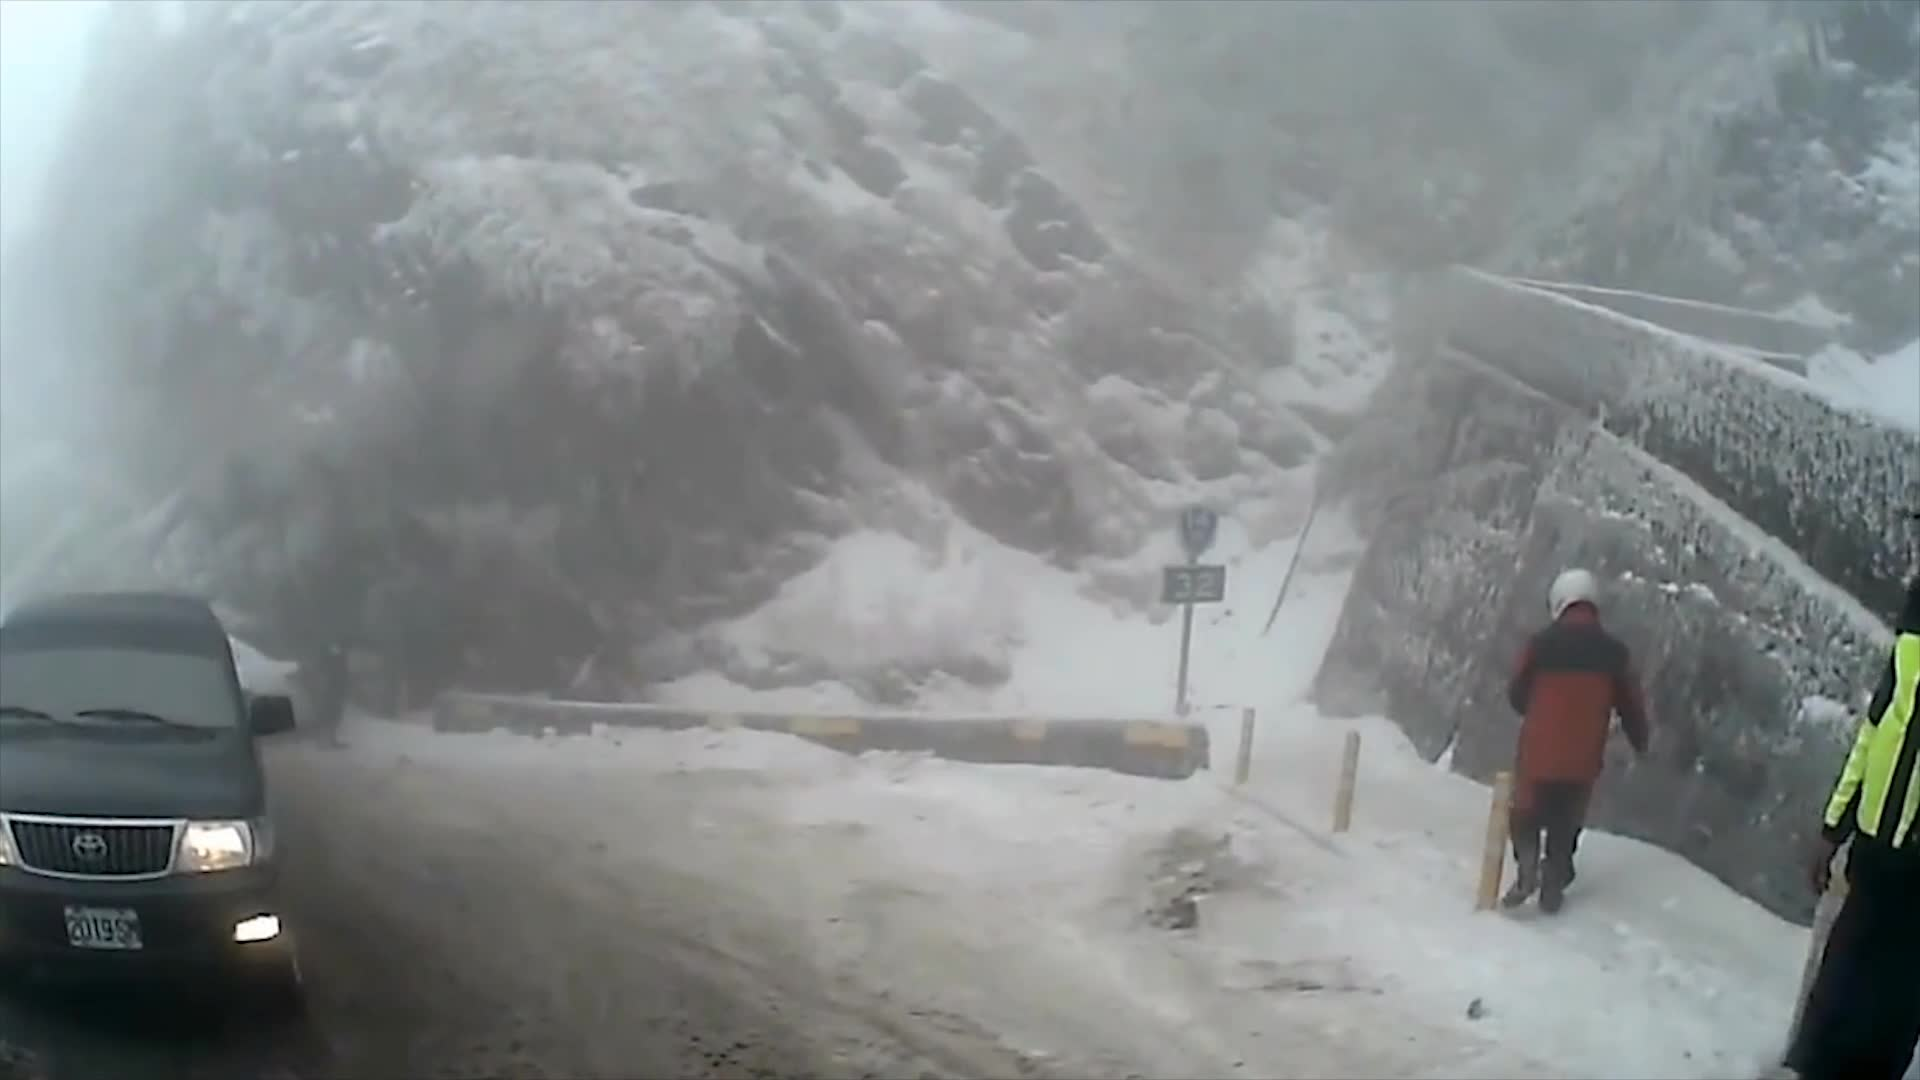pedestrian: (1758, 552, 1920, 1080), (1506, 565, 1643, 923)
vehicle: (0, 590, 307, 1026)
